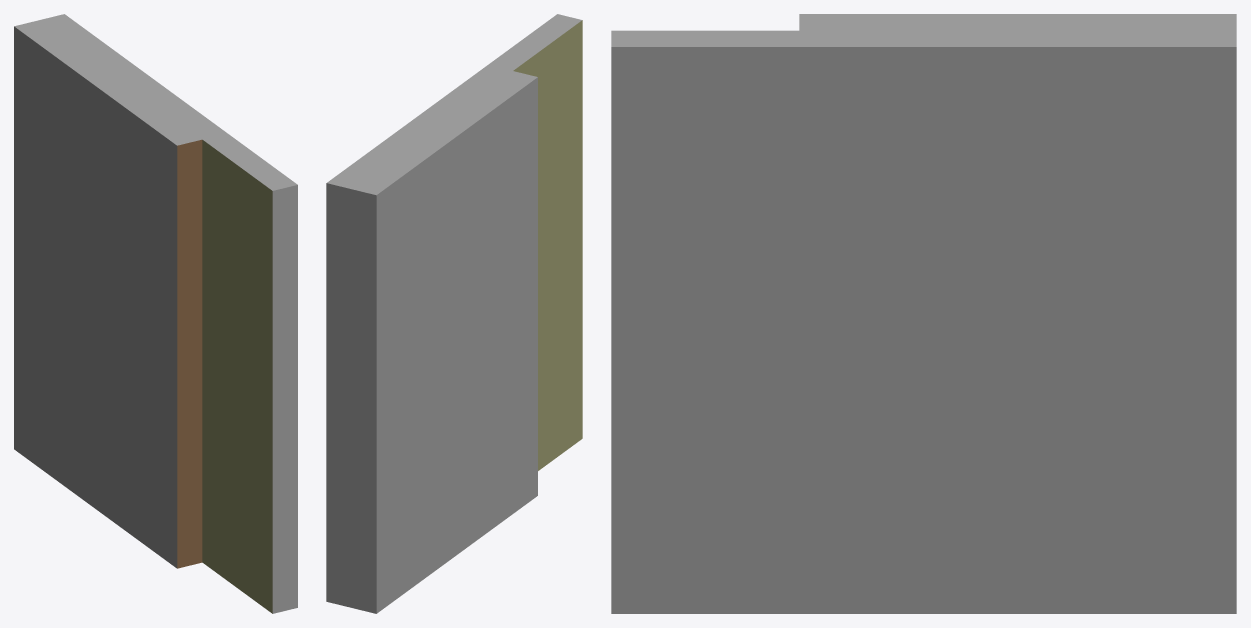
The model's file is CM_I_Wall8x8.fbx.
3 renders of one model, left to right at view 1: azimuth 30°, elevation 25°; view 2: azimuth 150°, elevation 25°; view 3: azimuth 270°, elevation 25°, orthographic. The views are drawn at different scales.
Parts seen in each view (by area): view 1: CM_I_Wall8x8; view 2: CM_I_Wall8x8; view 3: CM_I_Wall8x8.
Part boxes in pixels (<box>): CM_I_Wall8x8: <box>14,14,297,613</box>; CM_I_Wall8x8: <box>326,14,582,613</box>; CM_I_Wall8x8: <box>611,14,1236,613</box>.
Size of the model in its own units: 100 by 800 by 800.
